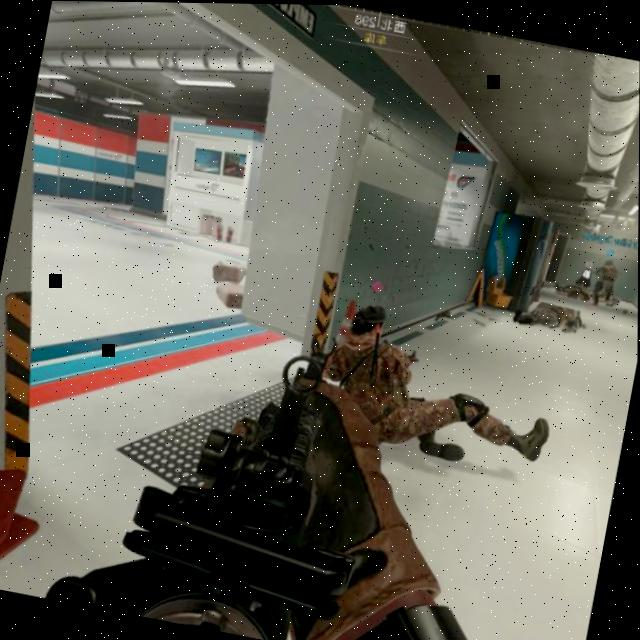MW2_body: (315, 273, 569, 474)
